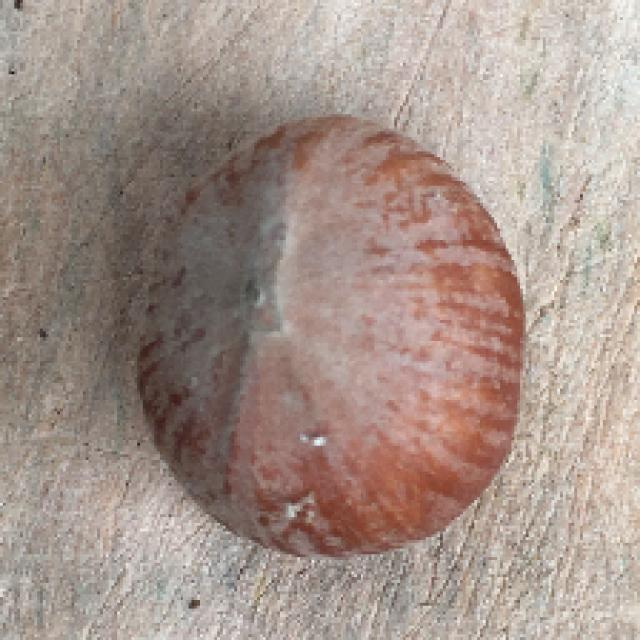qualityHazelnut: (134, 108, 528, 563)
